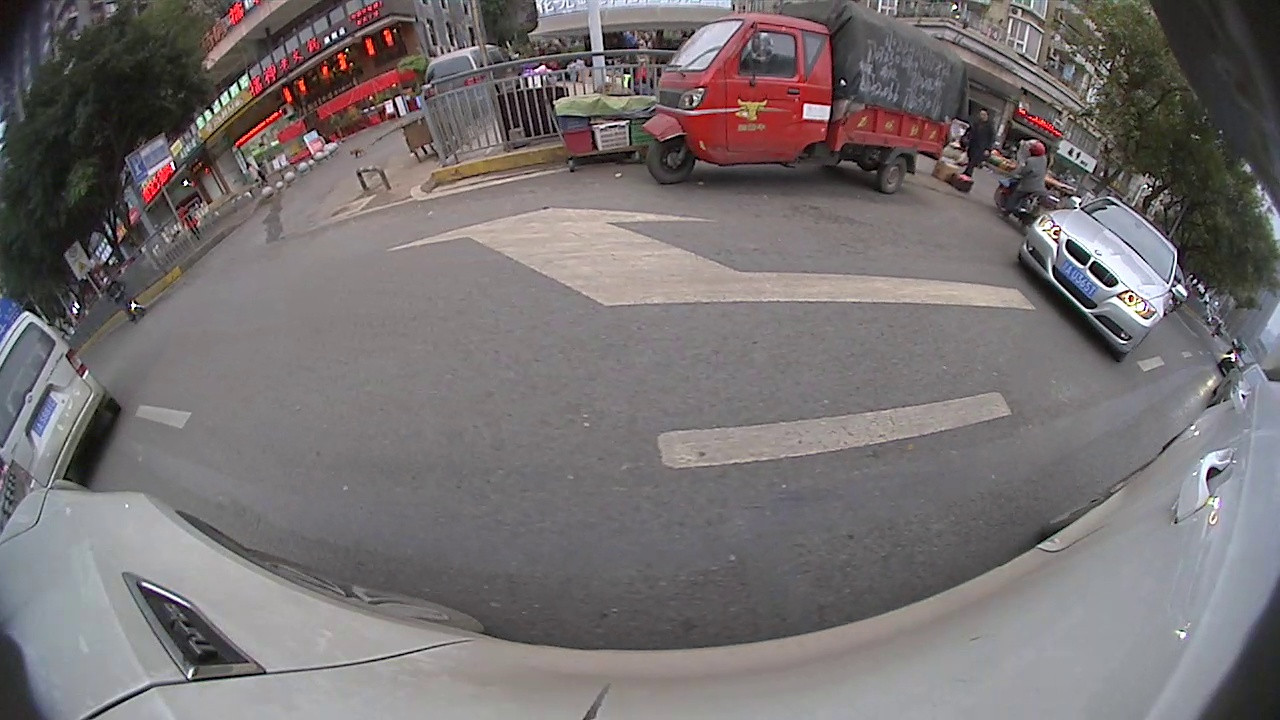car: (1010, 188, 1193, 369), (0, 313, 129, 496), (1207, 358, 1273, 421)
front: (644, 136, 702, 182)
person: (964, 100, 998, 181)
rear: (877, 153, 910, 194)
rider: (641, 2, 964, 202), (996, 124, 1066, 233)
